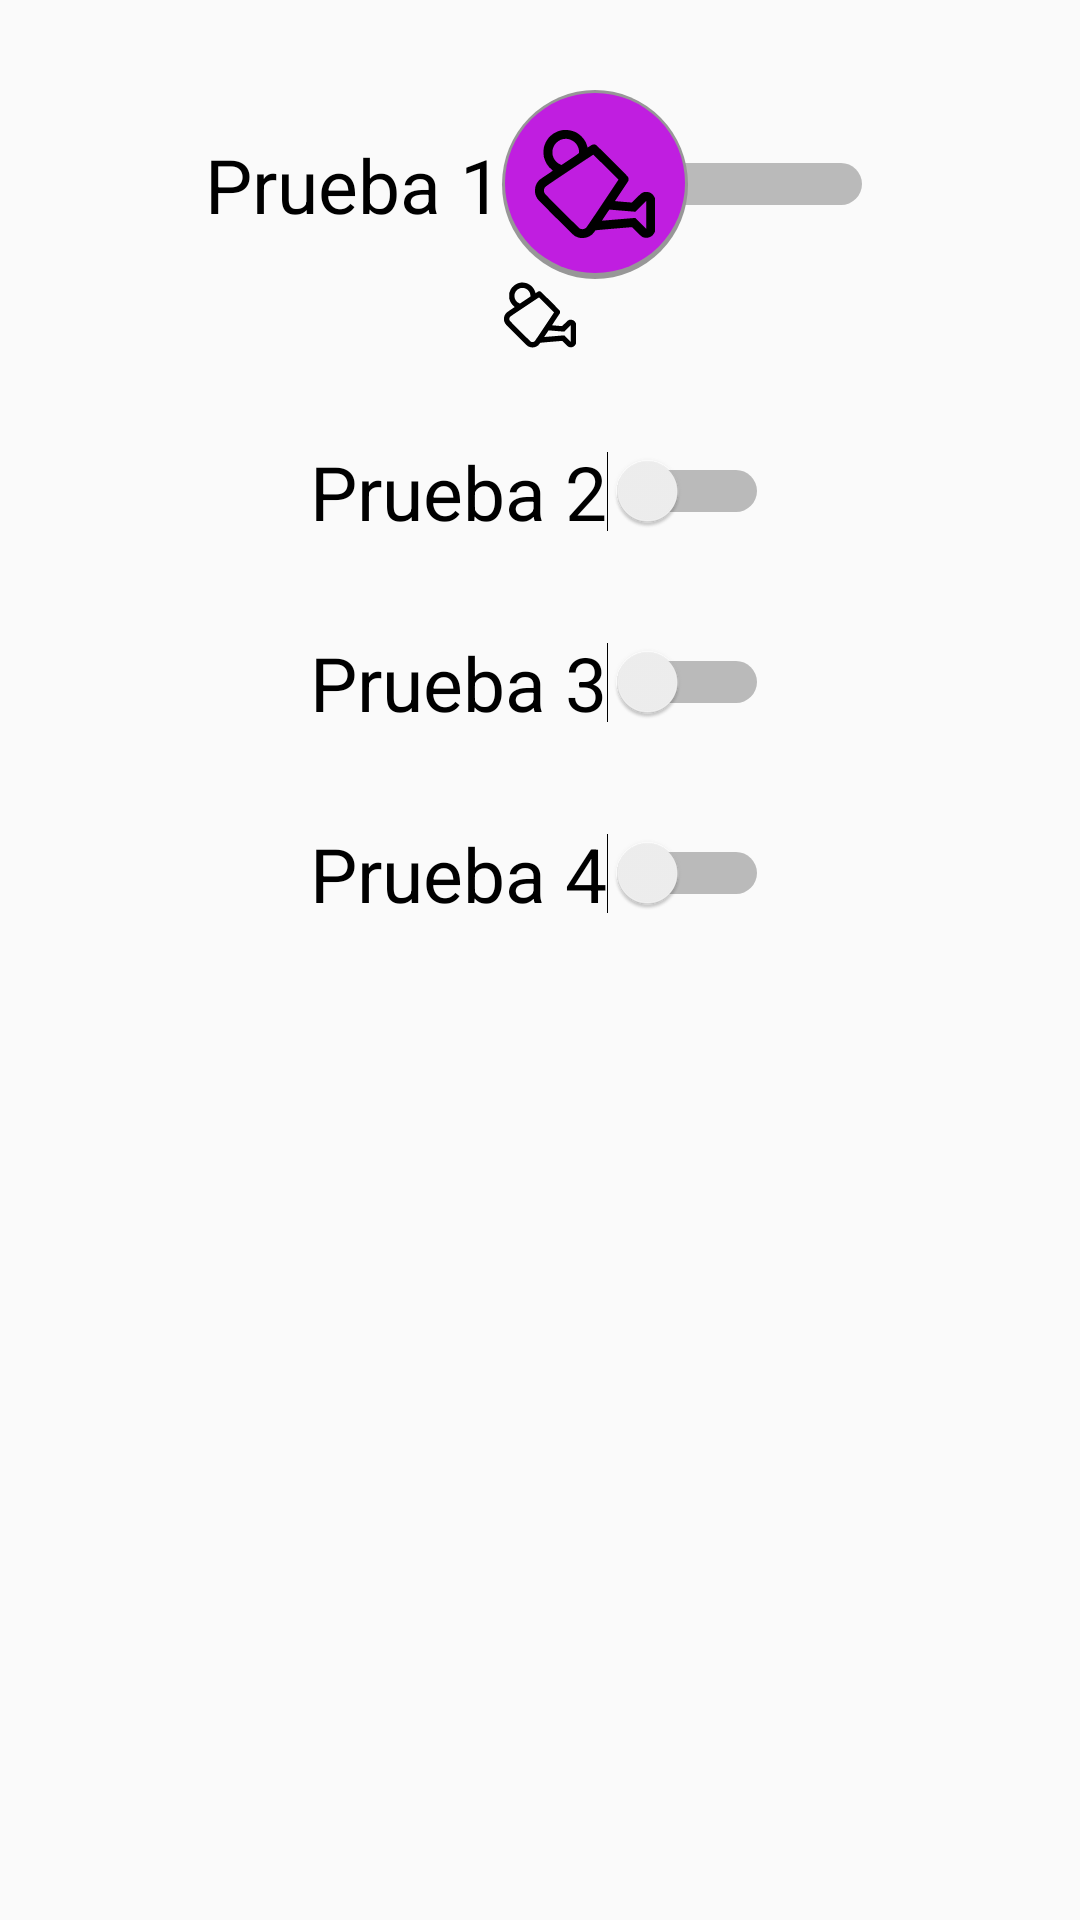

Icons on this 1080w x 1920h Android screen, each with the point to tap as [x,y]:
regar: [540,315]
